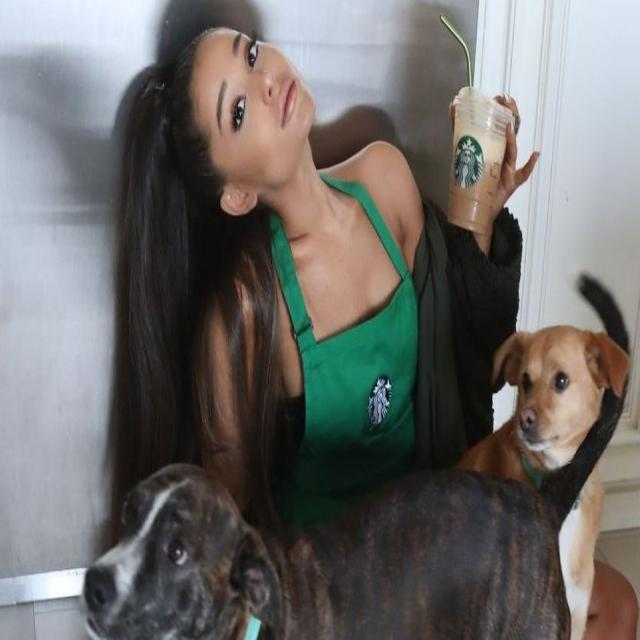starbucks: (451, 131, 486, 190), (362, 371, 395, 425)
